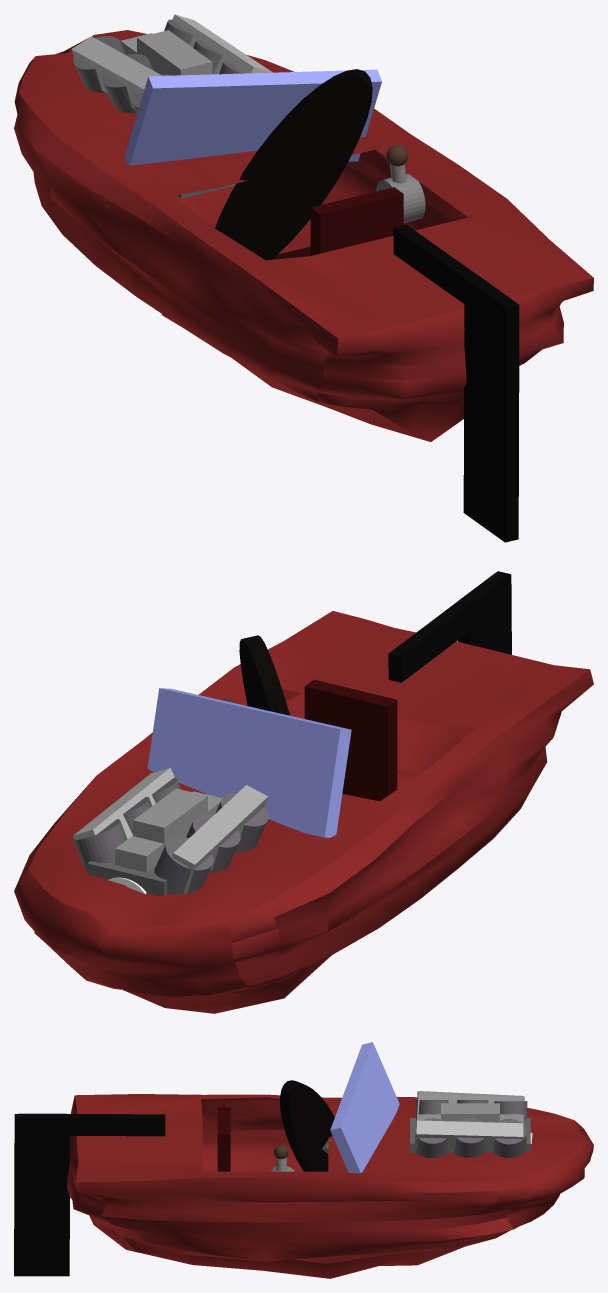
File: boat.glb
The picture shows the model from 3 angles, top to bottom: view 1: azimuth 30°, elevation 25°; view 2: azimuth 150°, elevation 25°; view 3: azimuth 270°, elevation 25°; orthographic projection. The views are drawn at different scales.
Visible parts, largest first — view 1: Motorblock_Material.003_0; view 2: Motorblock_Material.003_0; view 3: Motorblock_Material.003_0.
Part boxes in pixels (box(x1,y1,x2,y2)): Motorblock_Material.003_0: box(14, 14, 593, 542); Motorblock_Material.003_0: box(14, 571, 593, 1013); Motorblock_Material.003_0: box(14, 1042, 593, 1278).
Size of the model in its own units: 2.11 by 2.14 by 5.4.
